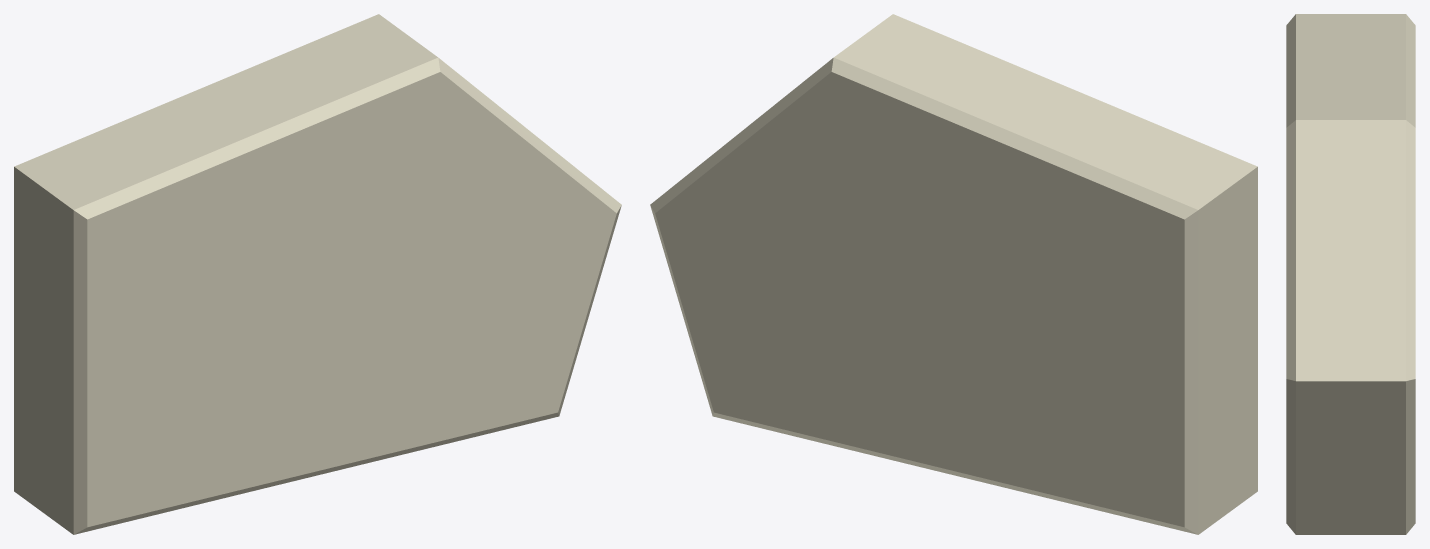
The model's file is primitive-crafting-workshop-flint-scraper-58f5fcd3__21531.glb.
3 renders of one model, left to right at view 1: azimuth 30°, elevation 25°; view 2: azimuth 150°, elevation 25°; view 3: azimuth 270°, elevation 25°, orthographic. The views are drawn at different scales.
Visible parts, largest first — view 1: flint-scraper; view 2: flint-scraper; view 3: flint-scraper.
Boxes of the visible parts, x1=… form: flint-scraper: x1=14, y1=14, x2=621, y2=534; flint-scraper: x1=650, y1=14, x2=1257, y2=534; flint-scraper: x1=1286, y1=14, x2=1415, y2=534.
Bounding box in the file's own units: 0.1864 × 0.1262 × 0.041.
